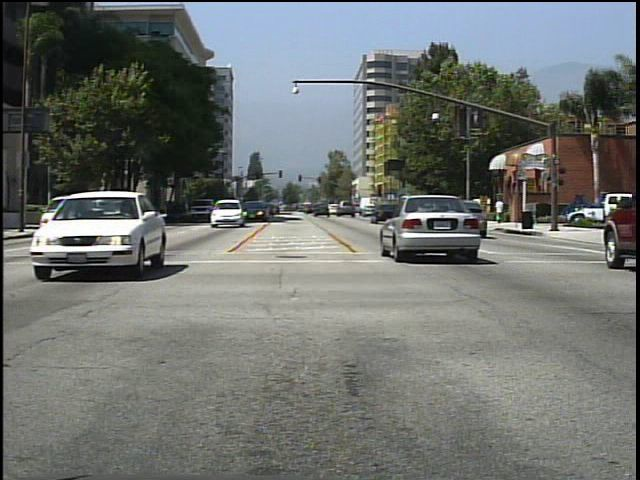person: (450, 193, 468, 229), (493, 194, 508, 224)
